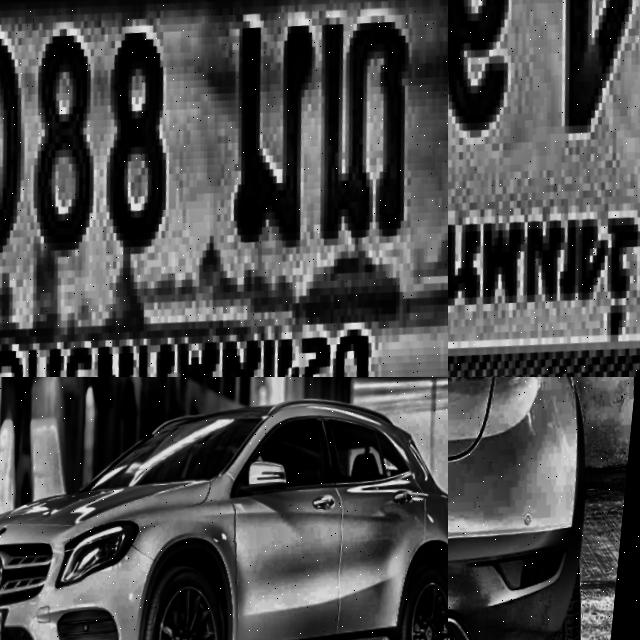license-plate: (0, 0, 448, 377), (448, 0, 640, 377), (0, 600, 17, 640)
